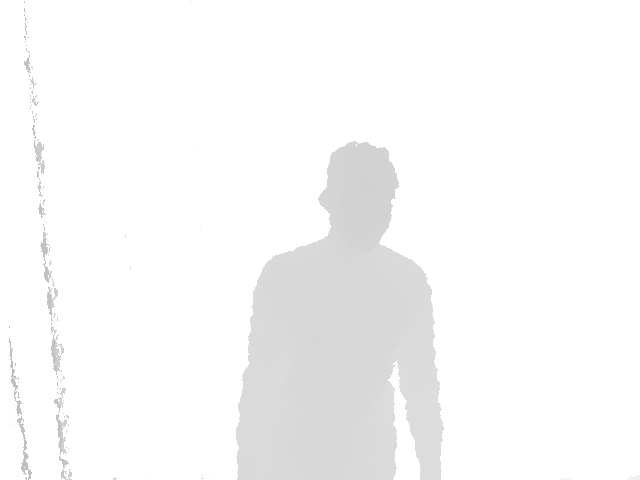head: (317, 142, 399, 248)
person: (234, 140, 447, 480)
